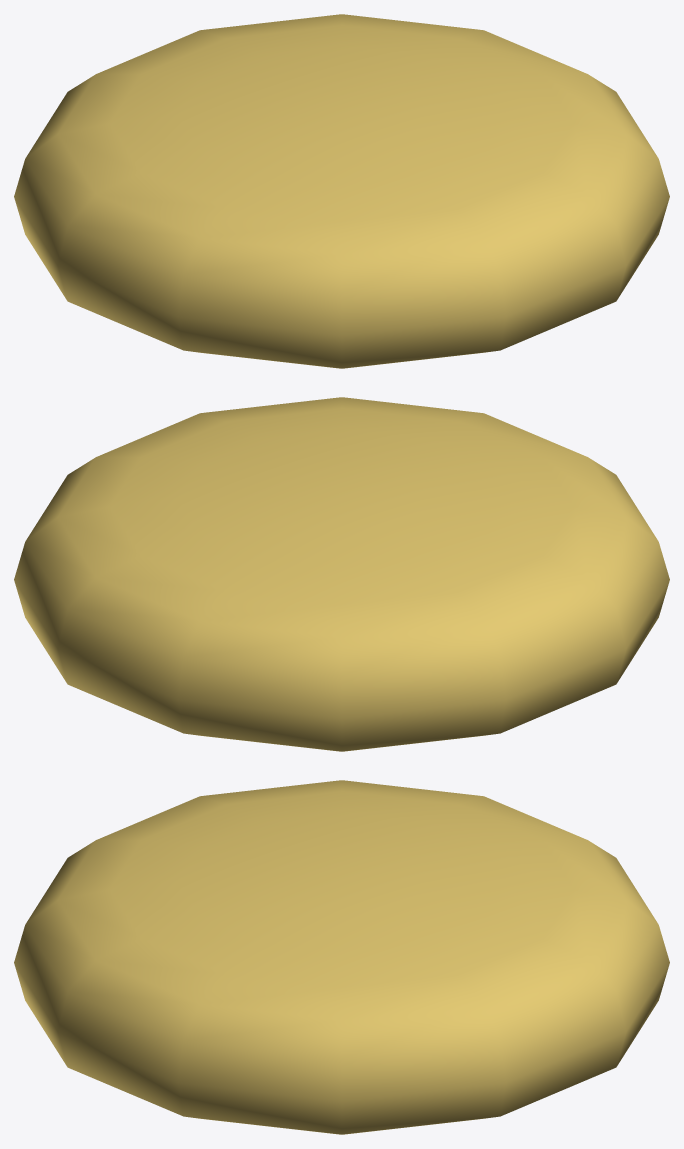
The model's file is atoll_potterySponge.fbx.
The picture shows the model from 3 angles, top to bottom: view 1: azimuth 30°, elevation 25°; view 2: azimuth 150°, elevation 25°; view 3: azimuth 270°, elevation 25°; orthographic projection.
Visible parts, largest first — view 1: Sponge; view 2: Sponge; view 3: Sponge.
Boxes of the visible parts, <box> form: Sponge: <box>14,14,669,368</box>; Sponge: <box>14,397,669,751</box>; Sponge: <box>14,780,669,1134</box>.
Bounding box in the file's own units: 18.59 × 5.05 × 18.59.
